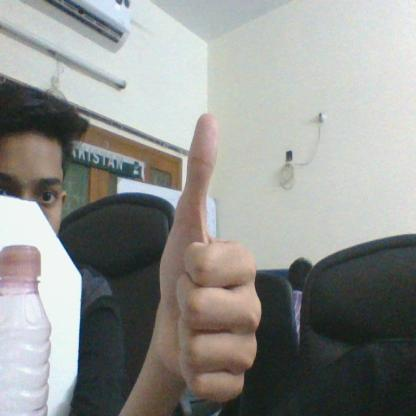thumbs-up: (159, 113, 264, 398)
